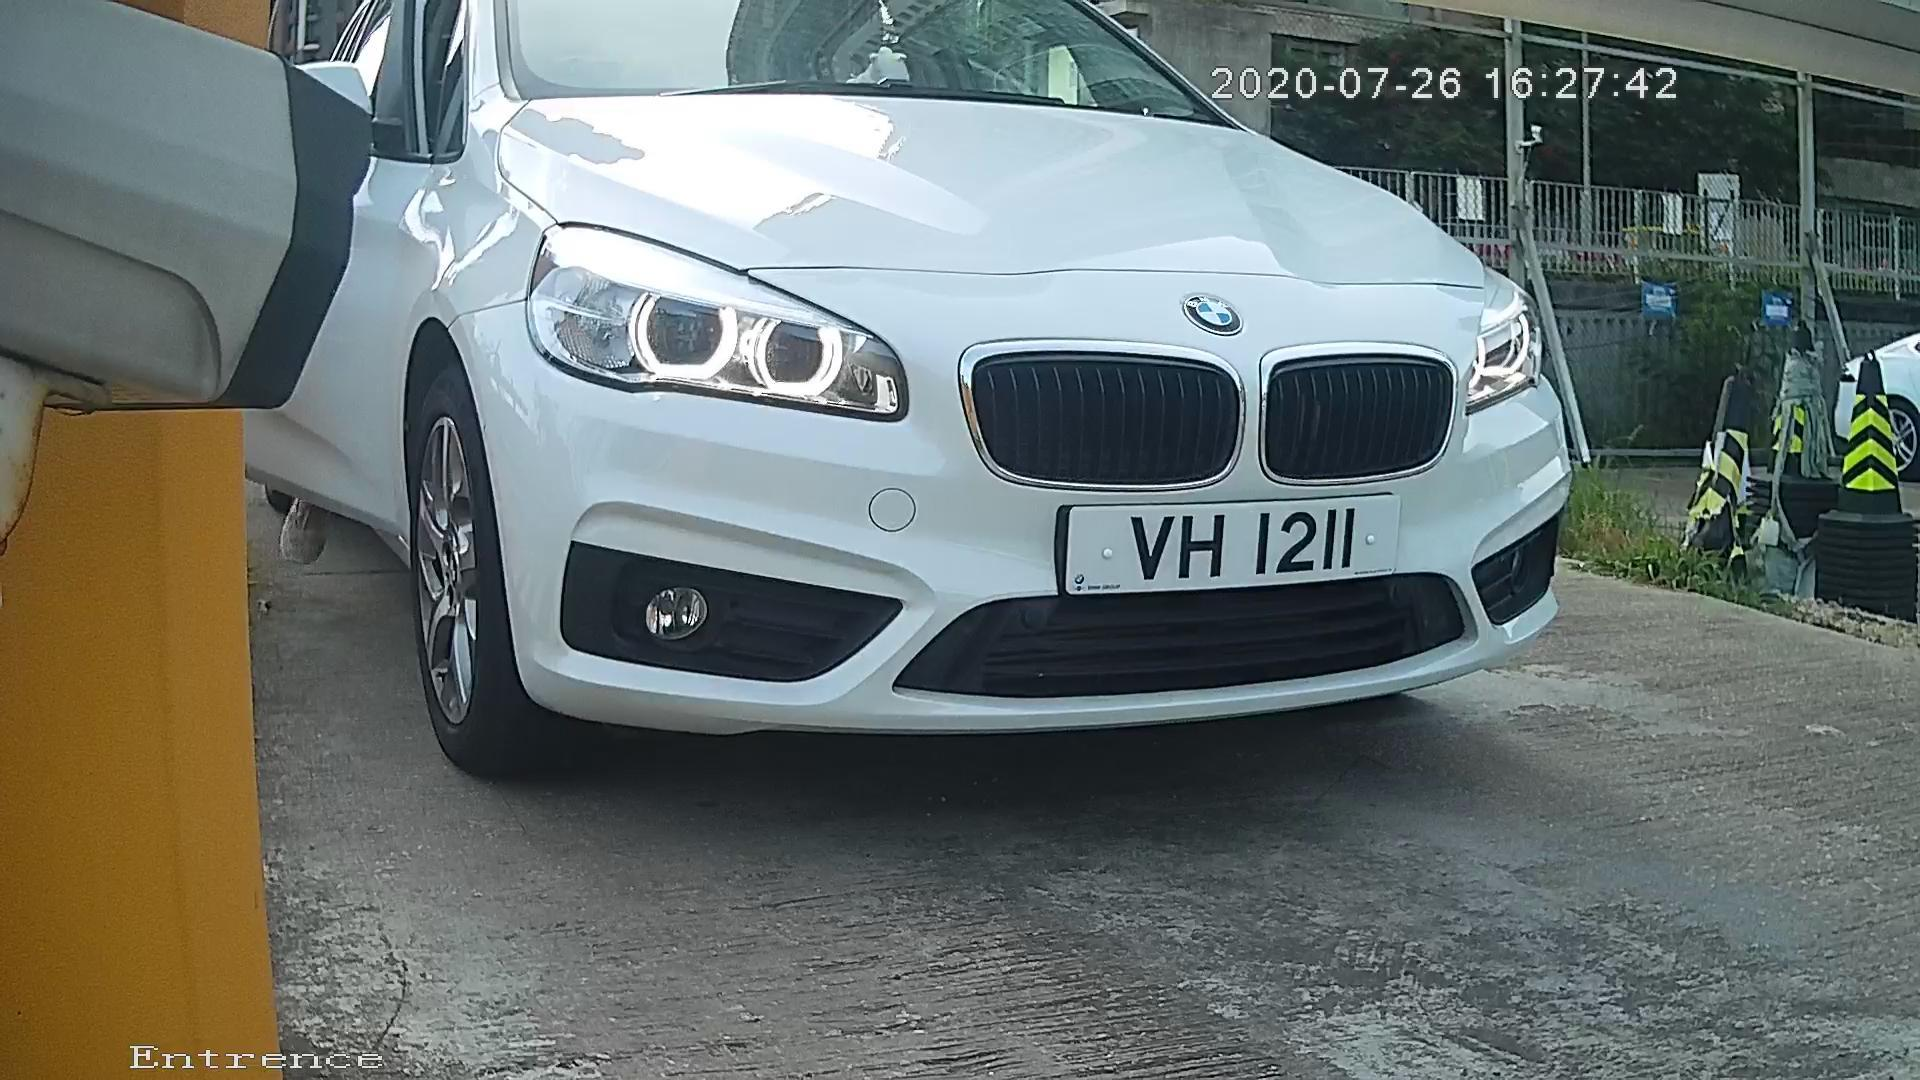privatecar: (318, 15, 1749, 791)
